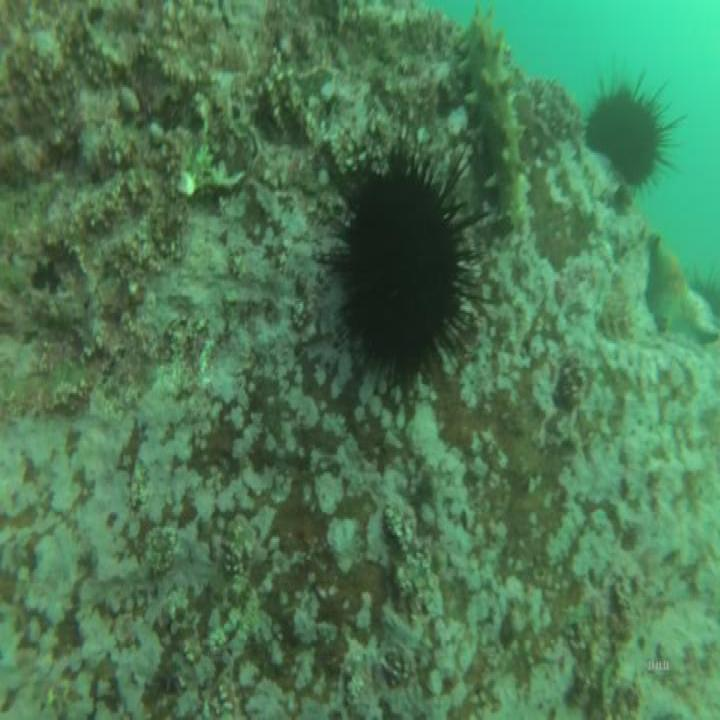echinus: (322, 119, 488, 404), (584, 64, 690, 192)
holothurian: (452, 0, 538, 240)
starfish: (643, 229, 720, 352)
